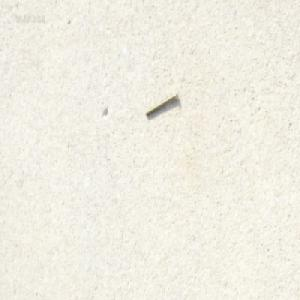Bolt: (145, 89, 178, 116)
